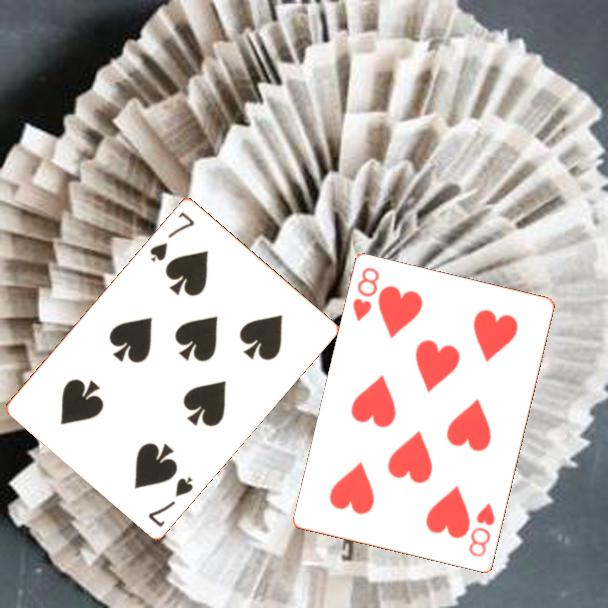h08: (349, 264, 382, 325), (465, 500, 498, 560)
s07: (146, 208, 197, 265), (145, 473, 196, 530)
